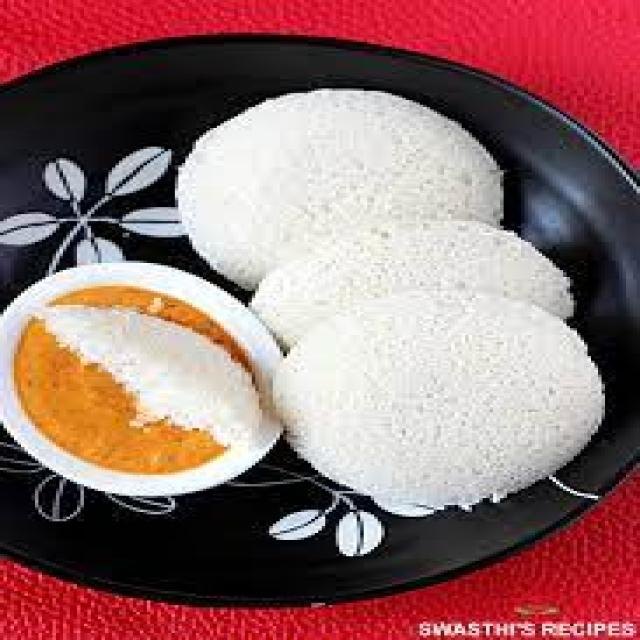Wet Waste: (273, 291, 594, 505), (178, 84, 511, 286), (248, 217, 574, 366), (28, 293, 269, 452)
